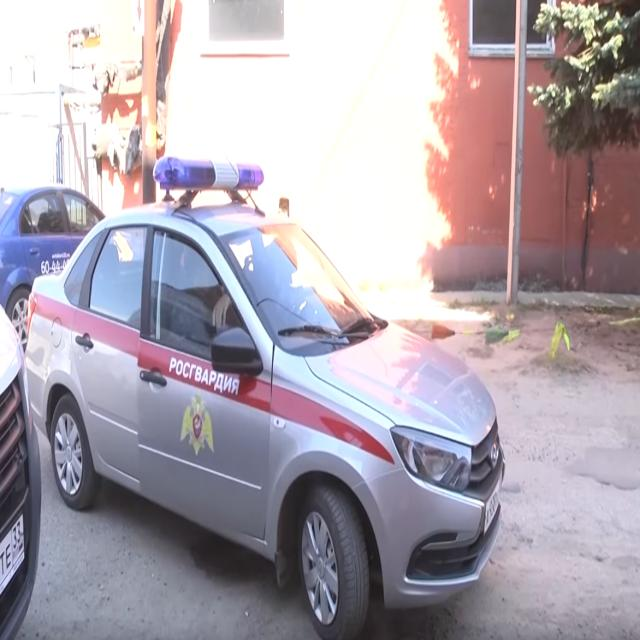non emergency car: (1, 188, 109, 352), (1, 300, 44, 640)
police car: (24, 156, 507, 640)
